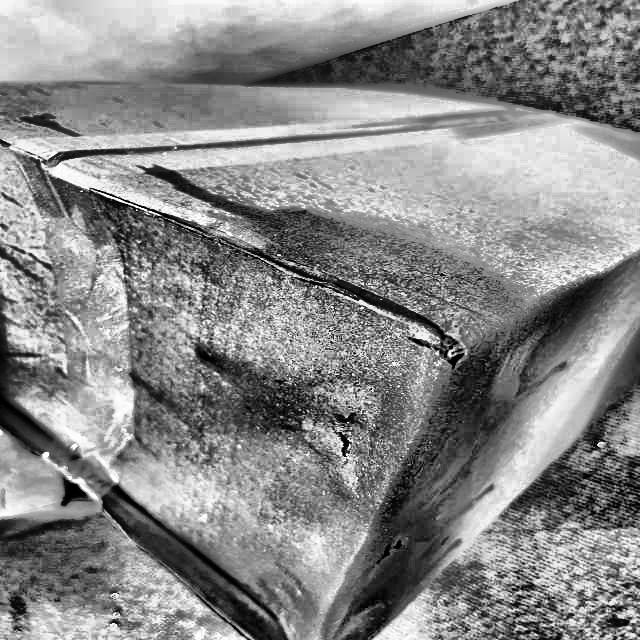box: (0, 74, 639, 639)
wet: (74, 154, 606, 640)
